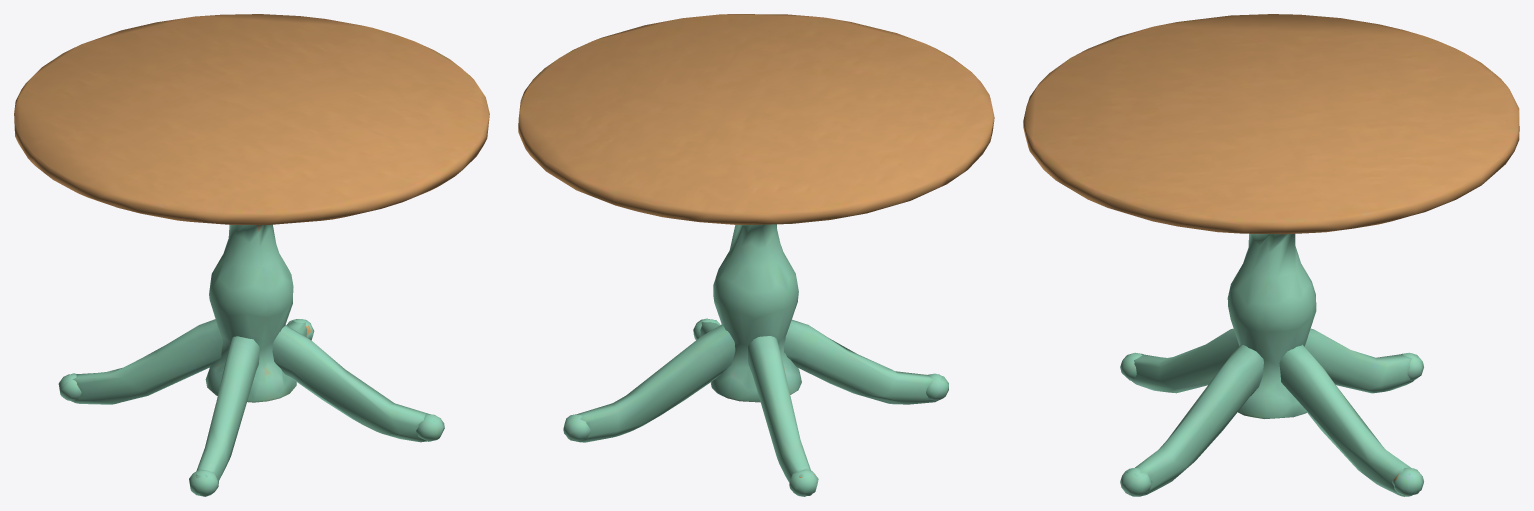
File: round-table.glb
The picture shows the model from 3 angles, left to right: view 1: azimuth 30°, elevation 25°; view 2: azimuth 150°, elevation 25°; view 3: azimuth 270°, elevation 25°; orthographic projection. The views are drawn at different scales.
Parts seen in each view (by area): view 1: round-table_body; view 2: round-table_body; view 3: round-table_body.
Boxes of the visible parts, x1=… form: round-table_body: x1=14, y1=14, x2=489, y2=496; round-table_body: x1=518, y1=14, x2=994, y2=496; round-table_body: x1=1023, y1=14, x2=1519, y2=496.
Bounding box in the file's own units: 1.04 × 0.749 × 1.05.
Materials: 1 (1 with a texture image).
